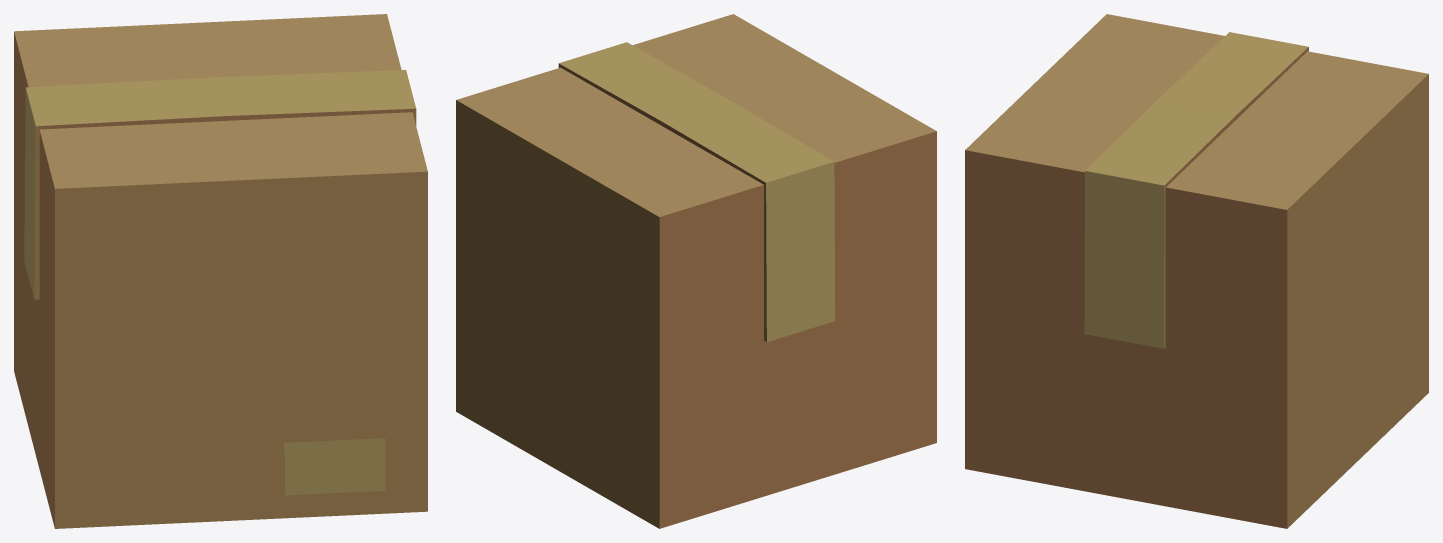
File: Kardus.fbx
The picture shows the model from 3 angles, left to right: view 1: azimuth 30°, elevation 25°; view 2: azimuth 150°, elevation 25°; view 3: azimuth 270°, elevation 25°; orthographic projection. The views are drawn at different scales.
Visible parts, largest first — view 1: Cube.006; view 2: Cube.006; view 3: Cube.006.
Part boxes in pixels (box(x1,y1,x2,y2)): Cube.006: box(14, 14, 427, 528); Cube.006: box(456, 14, 936, 528); Cube.006: box(965, 14, 1428, 528).
Bounding box in the file's own units: 132 × 102 × 132.
